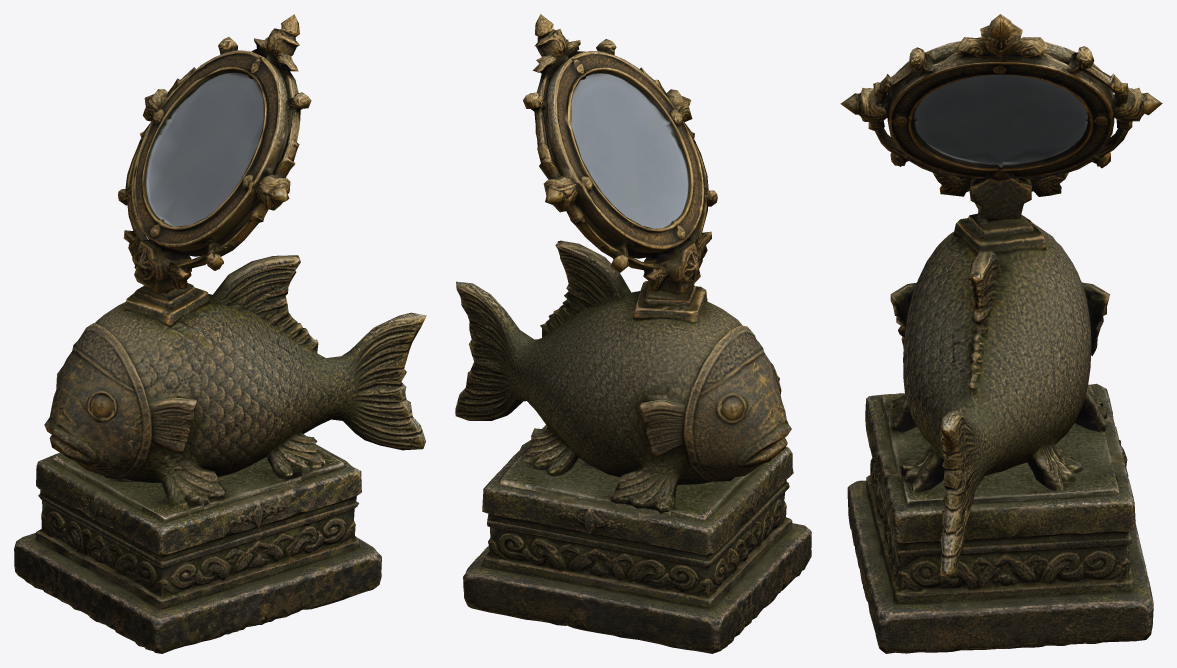
The model's file is tripo_convert_7bbdf1e4-400c-4b3c-a1c6-9ac047051158.fbx.
The picture shows the model from 3 angles, left to right: view 1: azimuth 30°, elevation 25°; view 2: azimuth 150°, elevation 25°; view 3: azimuth 270°, elevation 25°; orthographic projection. The views are drawn at different scales.
Parts seen in each view (by area): view 1: tripo_node_7bbdf1e4; view 2: tripo_node_7bbdf1e4; view 3: tripo_node_7bbdf1e4.
Part boxes in pixels (x1=…): tripo_node_7bbdf1e4: x1=14, y1=14, x2=426, y2=653; tripo_node_7bbdf1e4: x1=455, y1=14, x2=811, y2=653; tripo_node_7bbdf1e4: x1=840, y1=14, x2=1162, y2=653.
Bounding box in the file's own units: 0.6678 × 0.9806 × 0.4603.
Materials: 1 (1 with a texture image).
